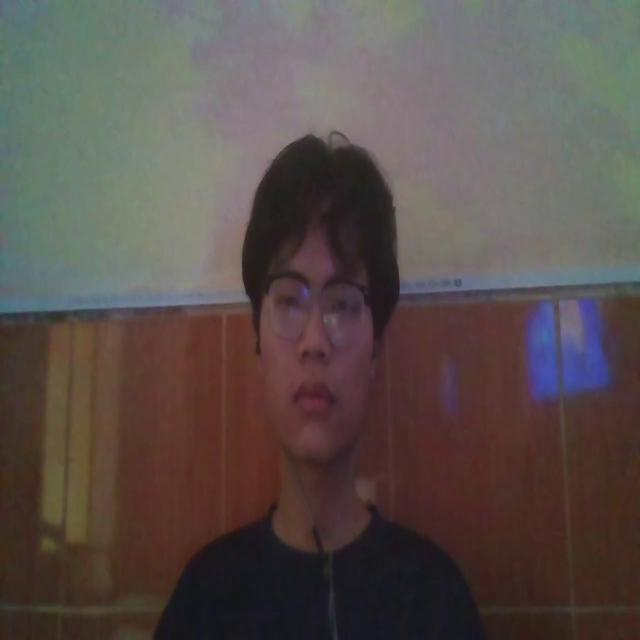student: (147, 126, 487, 640)
